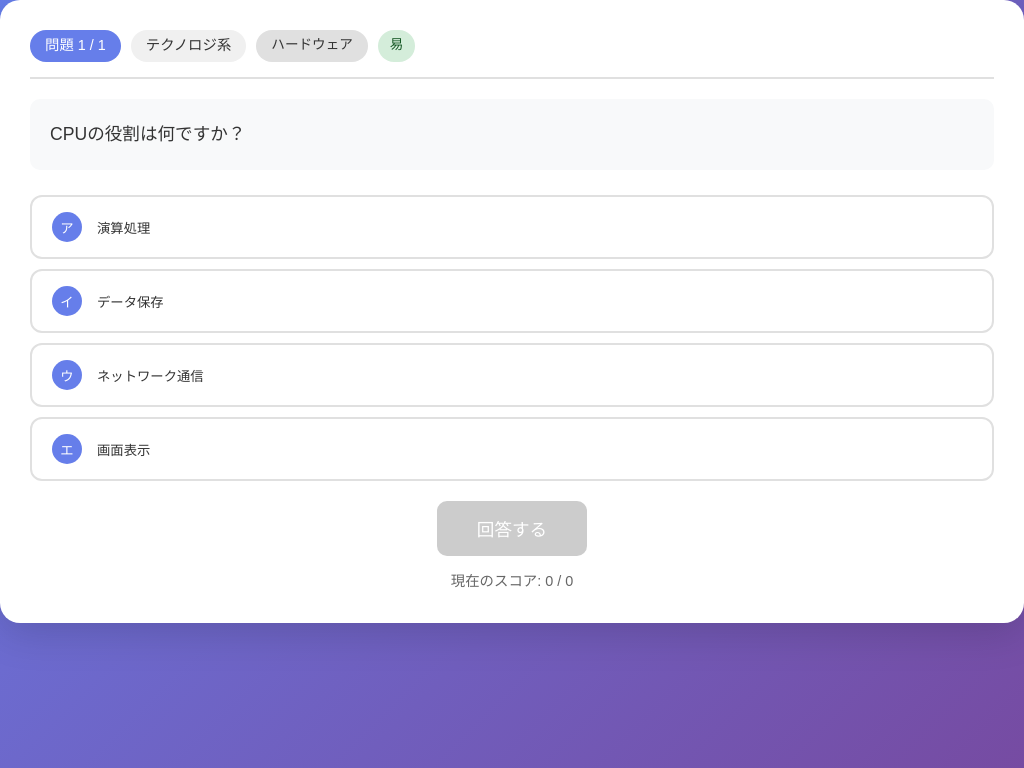
Test: Quiz › single mode › should show back to list button in single mode
Check: the text "演算処理" is shown, box [97,221,150,236]
What coordinates should you click on to do the following:
click the button "ア 演算処理"
I would click on:
 (124, 228)
Its box is [30,195,994,259].
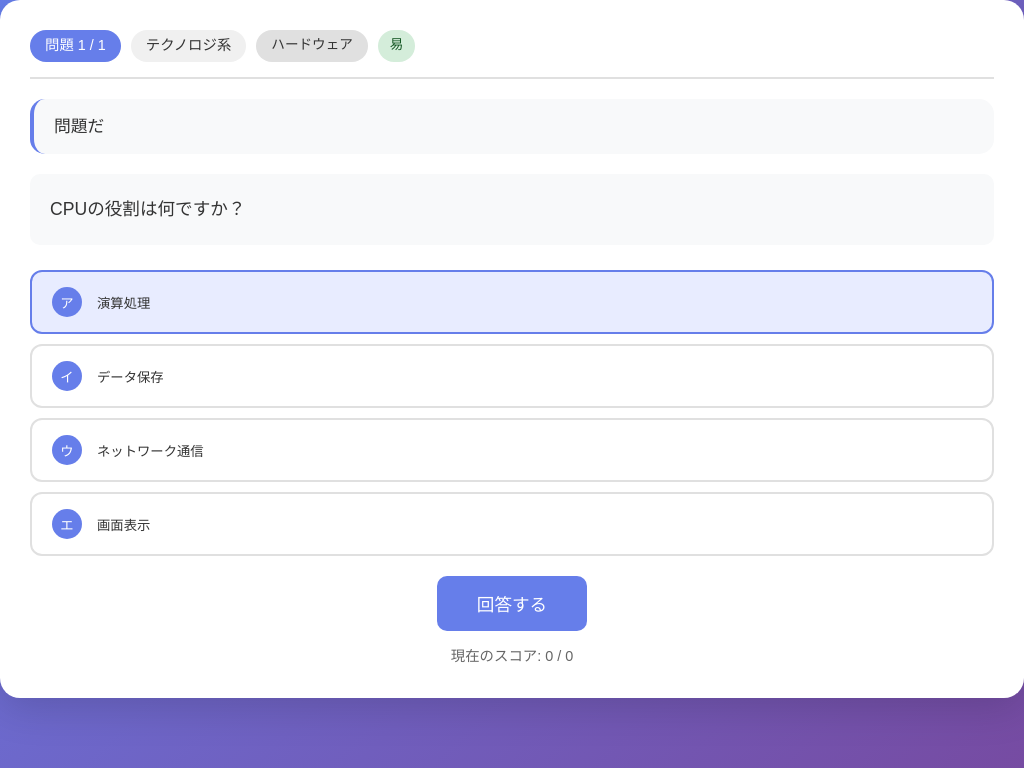
What coordinates should you click on to do the following:
click the button "回答する"
I would click on:
 (512, 604)
Its box is [437,576,587,632].
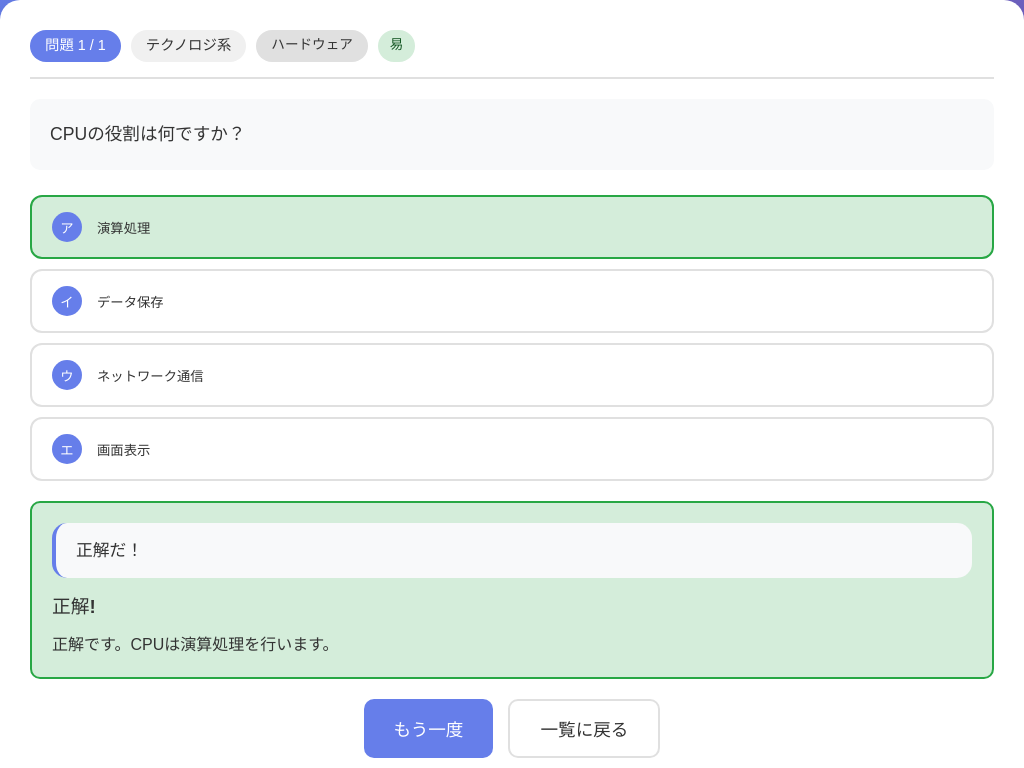
Check: the button "一覧に戻る" is shown, box [508,699,660,758]
